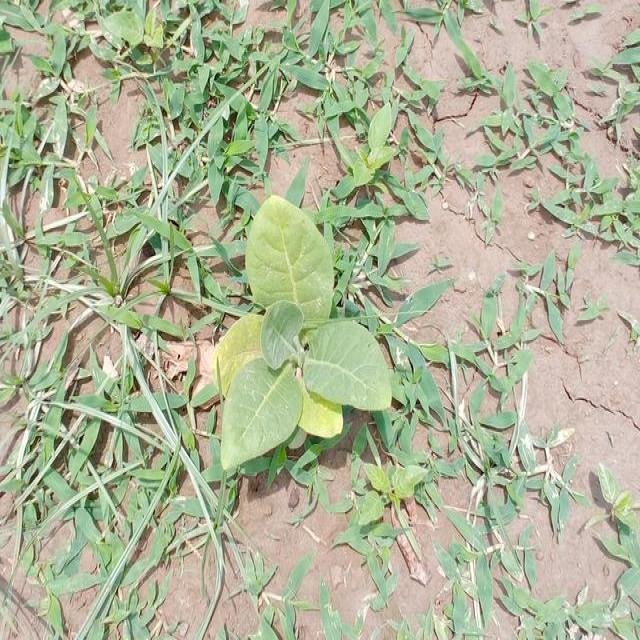crop: (204, 212, 386, 471)
